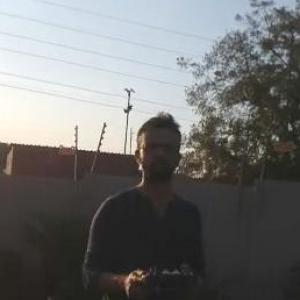follow: (76, 108, 212, 299)
